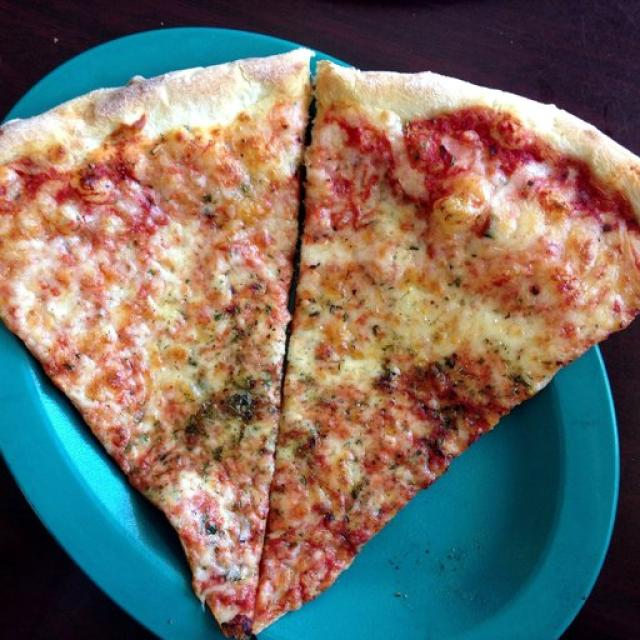Pizza: (0, 49, 640, 640)
